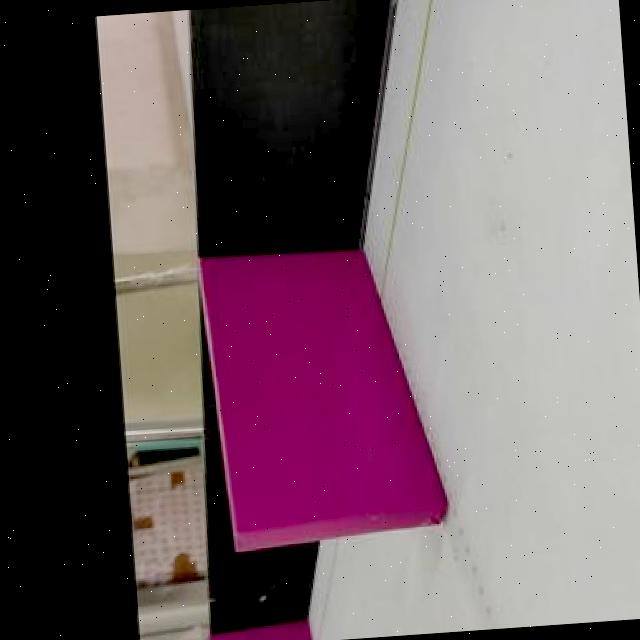xparking: (223, 246, 432, 541)
